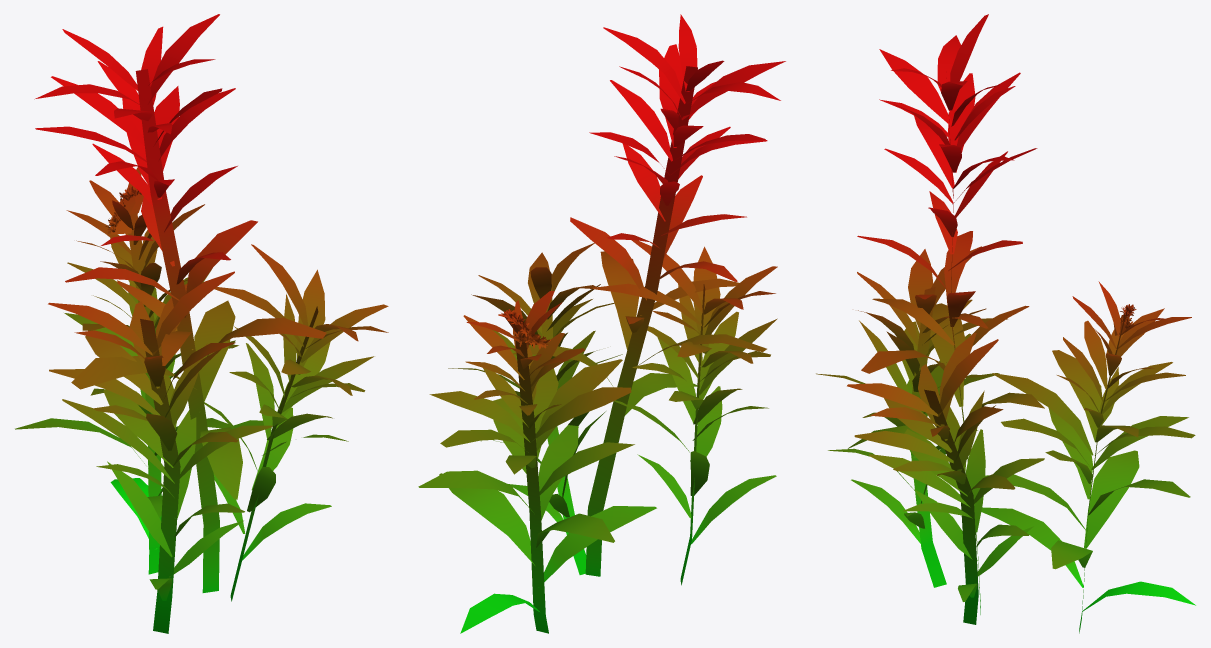
Rendered from Goldenrods_LOD5_Var7.fbx.
The picture shows the model from 3 angles, left to right: view 1: azimuth 30°, elevation 25°; view 2: azimuth 150°, elevation 25°; view 3: azimuth 270°, elevation 25°; orthographic projection. The views are drawn at different scales.
Parts seen in each view (by area): view 1: _77yh_Var7_LOD5; view 2: _77yh_Var7_LOD5; view 3: _77yh_Var7_LOD5.
Part boxes in pixels (x1,y1,x2,y2): _77yh_Var7_LOD5: [15, 14, 388, 633]; _77yh_Var7_LOD5: [418, 14, 785, 633]; _77yh_Var7_LOD5: [816, 14, 1195, 633].
Size of the model in its own units: 50.76 by 87.51 by 54.59.
